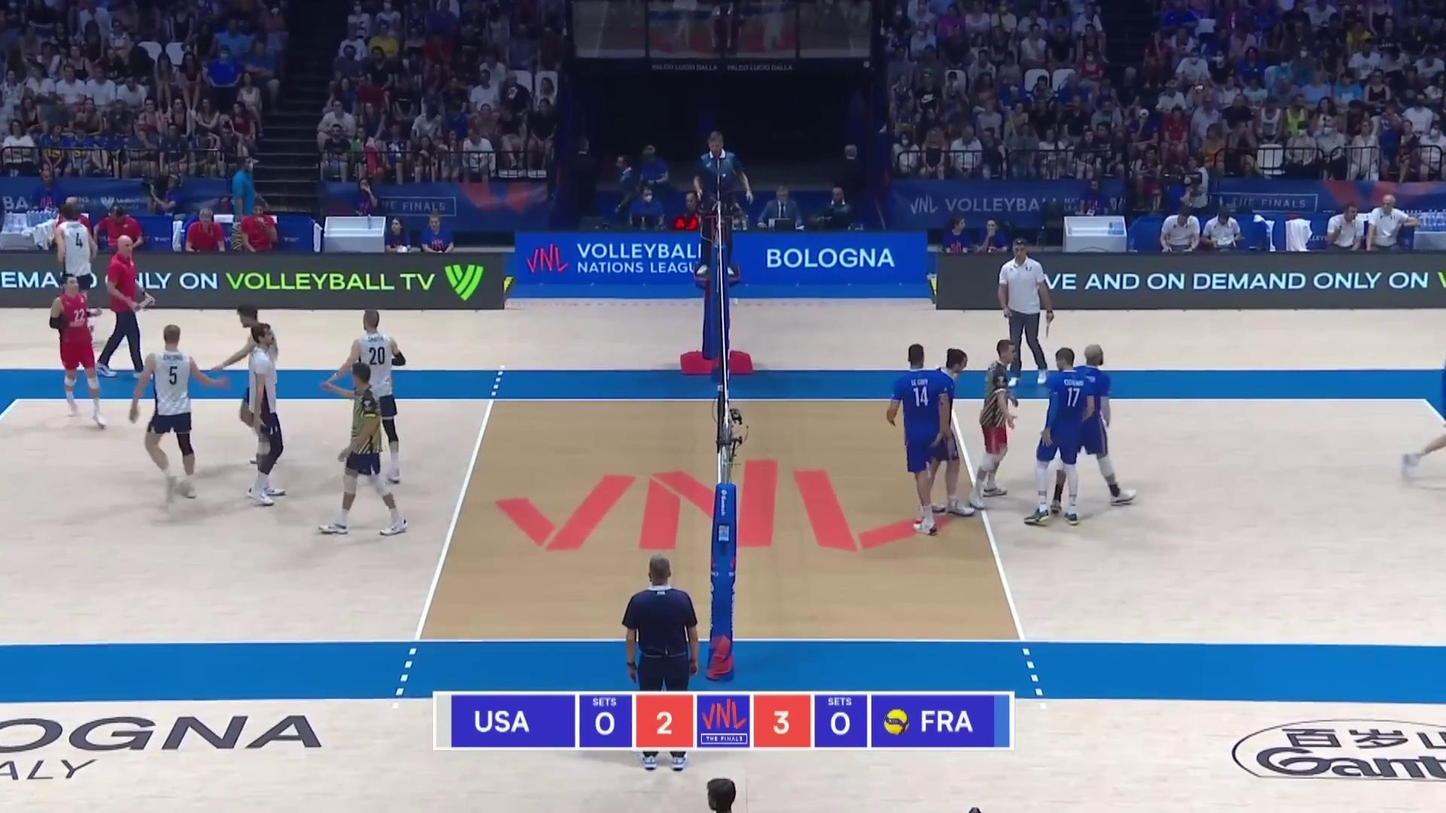player: (317, 363, 403, 535), (214, 303, 290, 497), (1052, 343, 1137, 516), (136, 324, 214, 508), (331, 311, 409, 478), (1025, 349, 1095, 526), (889, 342, 951, 535), (915, 349, 977, 519), (234, 325, 289, 506), (47, 275, 101, 433), (982, 339, 1025, 499)
refree: (622, 559, 705, 781), (691, 129, 747, 281)
